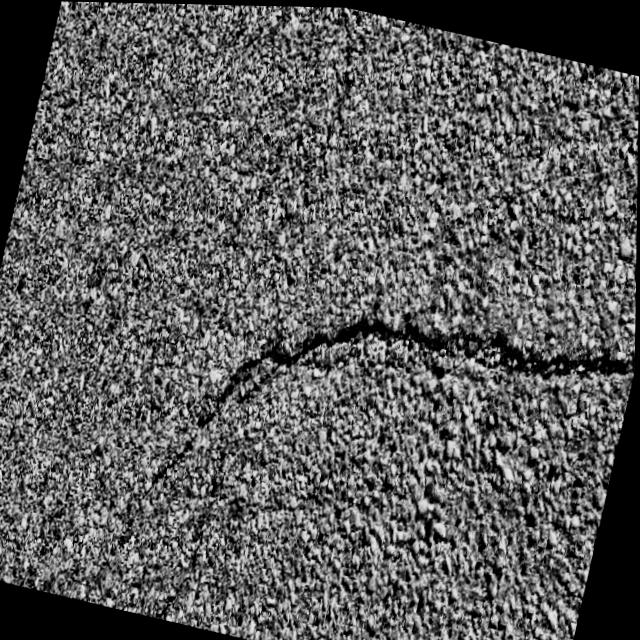cracks: (192, 319, 635, 425)
